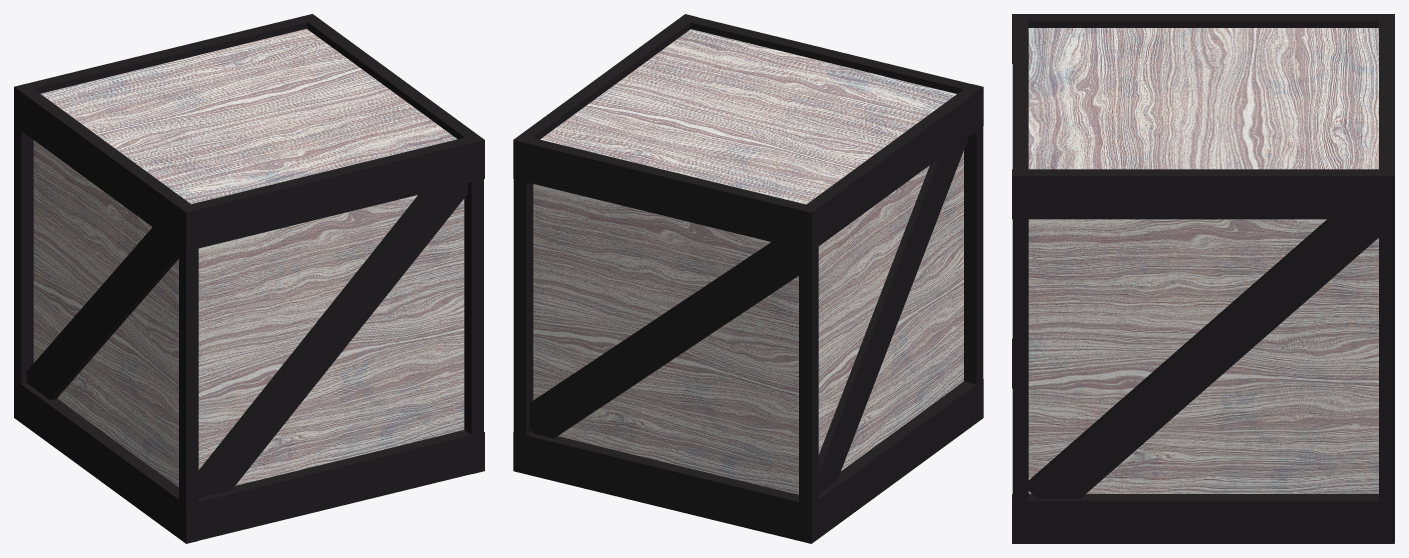
The model's file is Crate.obj.
3 views of the same model, side by side, from view 1: azimuth 30°, elevation 25°; view 2: azimuth 150°, elevation 25°; view 3: azimuth 270°, elevation 25° (orthographic). The views are drawn at different scales.
Parts seen in each view (by area): view 1: Part11, Part3, Part9, Part17, Part8, Part15, Part1, Part16, Part13, Part10, Part4, Part6; view 2: Part11, Part4, Part12, Part5, Part1, Part8, Part15, Part7, Part10, Part16, Part9, Part6; view 3: Part11, Part2, Part6, Part14, Part8, Part13, Part7, Part9, Part4.
Boxes of the visible parts, left/top/right/bottom form: Part11: left=33, top=29, right=464, bottom=487; Part3: left=198, top=183, right=467, bottom=497; Part9: left=180, top=134, right=483, bottom=248; Part17: left=198, top=430, right=472, bottom=540; Part8: left=14, top=84, right=198, bottom=251; Part15: left=14, top=379, right=198, bottom=543; Part1: left=26, top=227, right=178, bottom=400; Part16: left=179, top=246, right=198, bottom=504; Part13: left=464, top=179, right=483, bottom=434; Part10: left=14, top=126, right=33, bottom=383; Part4: left=14, top=14, right=317, bottom=125; Part6: left=301, top=14, right=484, bottom=181; Part11: left=533, top=29, right=963, bottom=494; Part4: left=513, top=135, right=818, bottom=251; Part12: left=513, top=431, right=811, bottom=543; Part5: left=529, top=242, right=798, bottom=438; Part1: left=818, top=137, right=968, bottom=493; Part8: left=806, top=84, right=983, bottom=251; Part15: left=811, top=379, right=983, bottom=543; Part7: left=513, top=179, right=533, bottom=441; Part10: left=799, top=247, right=818, bottom=510; Part16: left=964, top=126, right=983, bottom=384; Part9: left=680, top=15, right=972, bottom=93; Part6: left=513, top=14, right=697, bottom=178; Part11: left=1028, top=28, right=1378, bottom=493; Part2: left=1028, top=219, right=1378, bottom=499; Part6: left=1012, top=169, right=1394, bottom=219; Part14: left=1012, top=494, right=1394, bottom=543; Part8: left=1012, top=14, right=1394, bottom=63; Part13: left=1012, top=219, right=1028, bottom=500; Part7: left=1379, top=219, right=1394, bottom=507; Part9: left=1012, top=14, right=1028, bottom=175; Part4: left=1379, top=14, right=1394, bottom=218.
Size of the model in its own units: 6.01 by 6.38 by 6.01.
2 materials, 1 textured.
